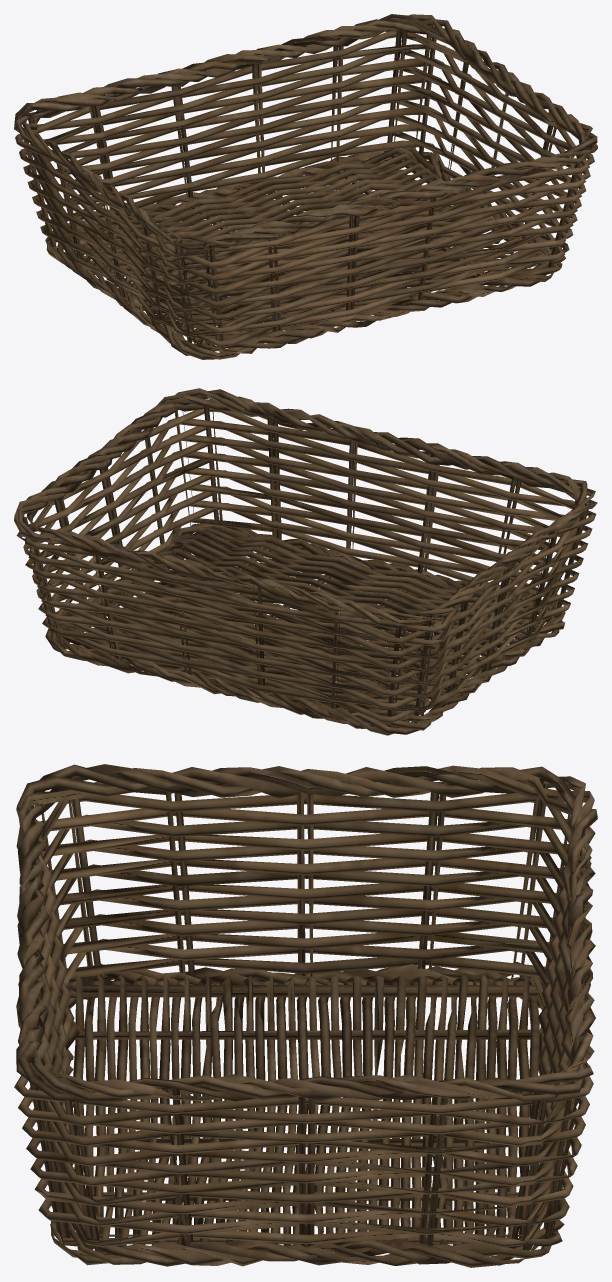
The model's file is wicker_basket_01.glb.
3 renders of one model, top to bottom at view 1: azimuth 30°, elevation 25°; view 2: azimuth 150°, elevation 25°; view 3: azimuth 270°, elevation 25°, orthographic. The views are drawn at different scales.
Visible parts, largest first — view 1: wicker_basket_01; view 2: wicker_basket_01; view 3: wicker_basket_01.
Boxes of the visible parts, left/top/right/bottom form: wicker_basket_01: left=14, top=14, right=597, bottom=359; wicker_basket_01: left=14, top=388, right=597, bottom=735; wicker_basket_01: left=14, top=764, right=597, bottom=1267.
Bounding box in the file's own units: 0.383 × 0.1174 × 0.2939.
1 material, 1 textured.
